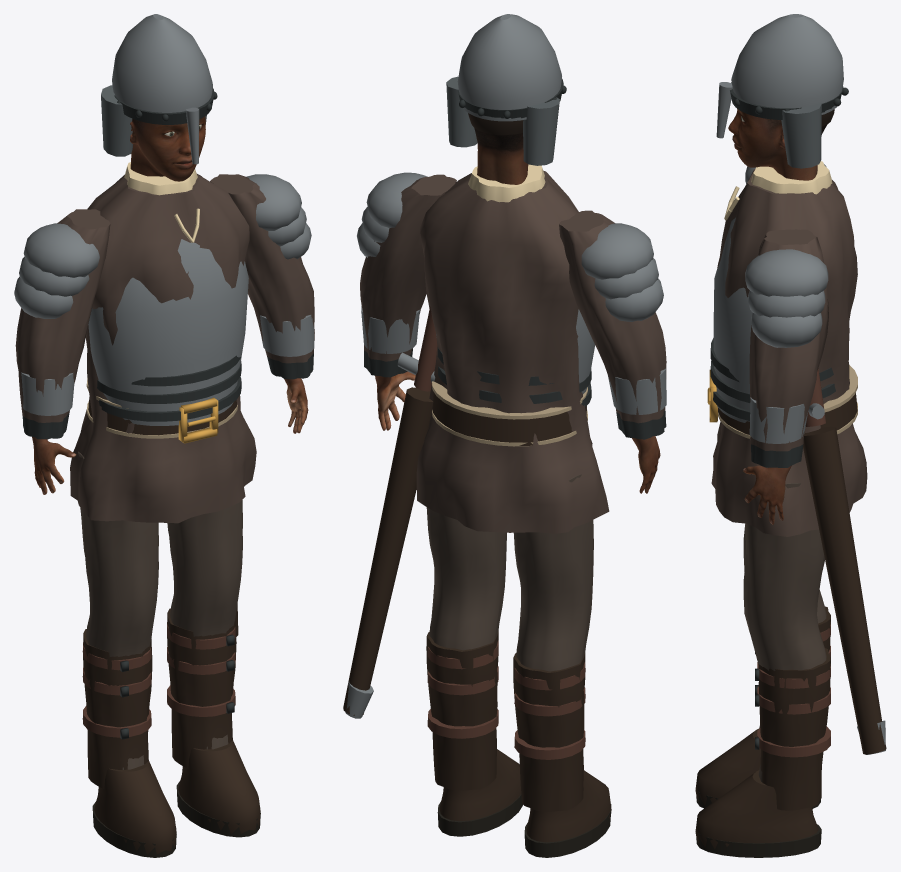
File: garde.glb
3 views of the same model, side by side, from view 1: azimuth 30°, elevation 25°; view 2: azimuth 150°, elevation 25°; view 3: azimuth 270°, elevation 25° (orthographic). The views are drawn at different scales.
Parts seen in each view (by area): view 1: garde_Maillage, garde_JambeG, garde_JambeD, garde_BrasG, garde_BrasD, garde_Tete; view 2: garde_Maillage, garde_JambeG, garde_JambeD, garde_BrasG, garde_BrasD, garde_Tete, garde_Coiffure; view 3: garde_Maillage, garde_JambeD, garde_BrasD, garde_JambeG, garde_Tete.
Part boxes in pixels (x1=…): garde_Maillage: x1=70, y1=14, x2=256, y2=636; garde_JambeG: x1=78, y1=451, x2=176, y2=857; garde_JambeD: x1=167, y1=500, x2=260, y2=837; garde_BrasG: x1=14, y1=209, x2=110, y2=494; garde_BrasD: x1=210, y1=174, x2=314, y2=433; garde_Tete: x1=130, y1=116, x2=205, y2=181; garde_Maillage: x1=343, y1=14, x2=609, y2=718; garde_JambeG: x1=513, y1=474, x2=611, y2=857; garde_JambeD: x1=426, y1=507, x2=523, y2=836; garde_BrasG: x1=559, y1=210, x2=666, y2=493; garde_BrasD: x1=357, y1=172, x2=456, y2=430; garde_Tete: x1=474, y1=128, x2=528, y2=184; garde_Coiffure: x1=468, y1=113, x2=523, y2=135; garde_Maillage: x1=707, y1=14, x2=886, y2=754; garde_JambeD: x1=695, y1=483, x2=830, y2=857; garde_BrasD: x1=743, y1=229, x2=828, y2=524; garde_JambeG: x1=695, y1=524, x2=830, y2=808; garde_Tete: x1=728, y1=108, x2=827, y2=180.
Bounding box in the file's own units: 0.7148 × 1.88 × 0.4041.
Materials: 16 (1 with a texture image).
